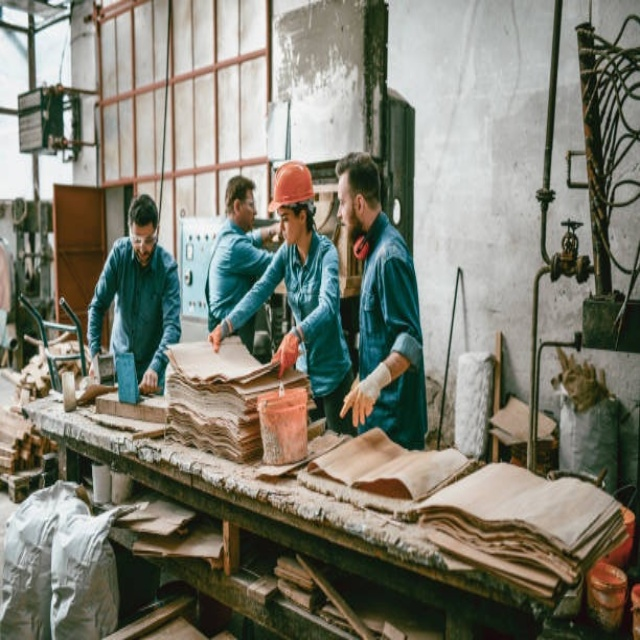Gafas: (125, 224, 160, 245), (233, 196, 255, 209)
Guantes: (338, 361, 391, 428), (271, 325, 299, 369), (208, 320, 231, 356)
Sin_gafas: (337, 190, 355, 212), (275, 209, 297, 220)
Sin_guantes: (140, 366, 159, 393), (88, 350, 103, 380)
Sin_mascara: (335, 210, 355, 235), (280, 223, 299, 245), (135, 249, 151, 265), (243, 210, 258, 227)
